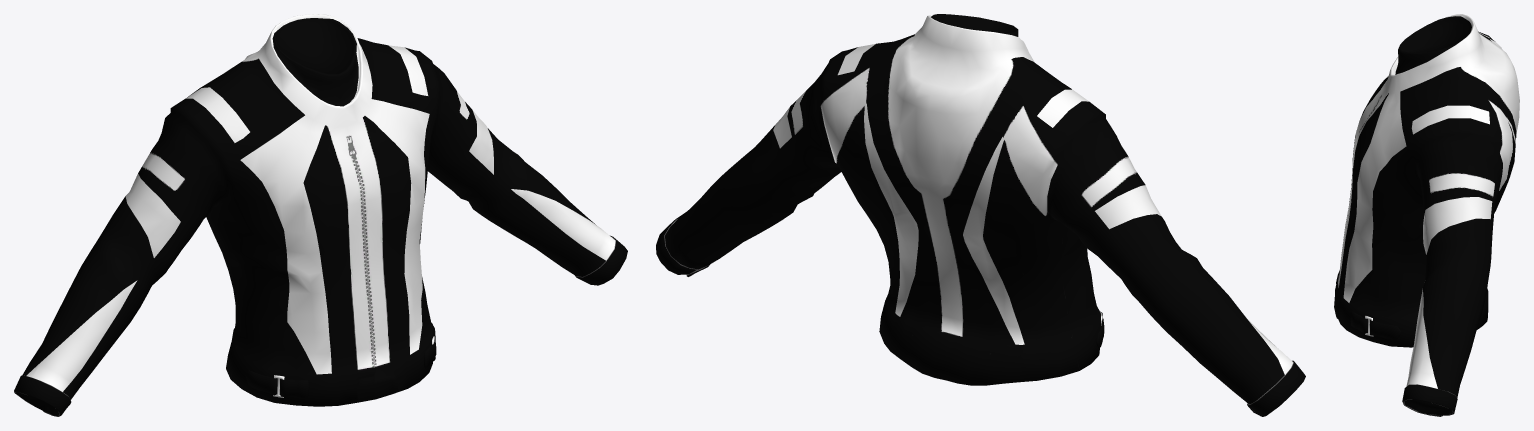
Rendered from SurvivorMale_Chest_Jacket_Moto_LOD0.glb.
3 views of the same model, side by side, from view 1: azimuth 30°, elevation 25°; view 2: azimuth 150°, elevation 25°; view 3: azimuth 270°, elevation 25° (orthographic). The views are drawn at different scales.
Parts seen in each view (by area): view 1: Hoodie; view 2: Hoodie; view 3: Hoodie.
Boxes of the visible parts, x1=… form: Hoodie: x1=14, y1=14, x2=627, y2=416; Hoodie: x1=656, y1=14, x2=1305, y2=416; Hoodie: x1=1334, y1=14, x2=1519, y2=416.
Bounding box in the file's own units: 1.14 × 0.5965 × 0.3487.
Materials: 1 (1 with a texture image).
